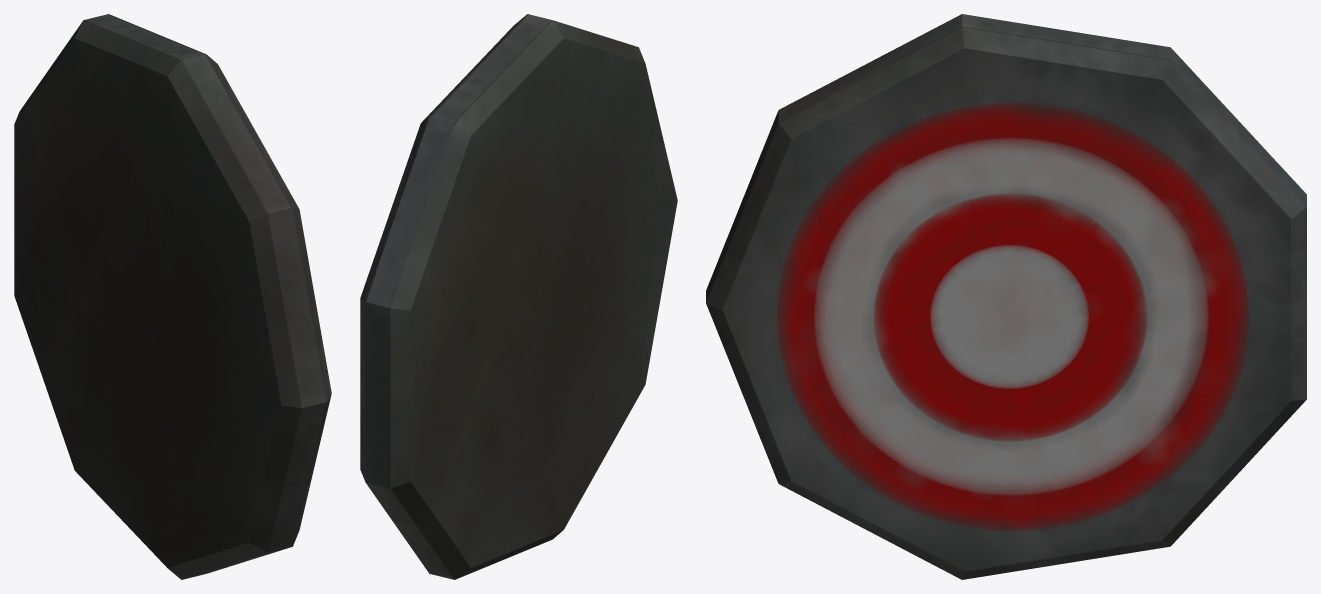
The model's file is Target.fbx.
The picture shows the model from 3 angles, left to right: view 1: azimuth 30°, elevation 25°; view 2: azimuth 150°, elevation 25°; view 3: azimuth 270°, elevation 25°; orthographic projection. The views are drawn at different scales.
Visible parts, largest first — view 1: Circle; view 2: Circle; view 3: Circle.
Boxes of the visible parts, x1,y1,x2,y2 form: Circle: (14,14,331,579); Circle: (360,14,677,579); Circle: (706,14,1306,579).
Size of the model in its own units: 20 by 197 by 194.
Materials: 1 (1 with a texture image).
